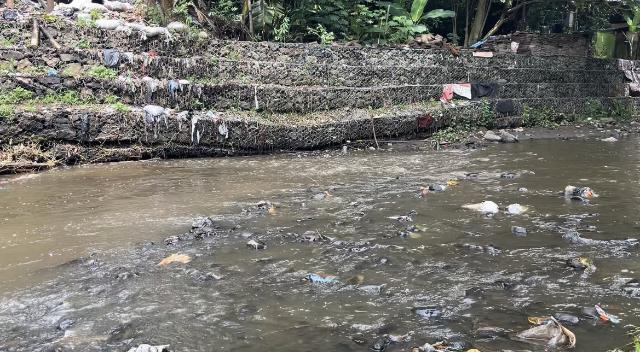Sampah Anorganik: (515, 314, 576, 351), (381, 342, 496, 352), (560, 185, 597, 203), (302, 271, 336, 287), (157, 251, 193, 266), (596, 307, 622, 324), (462, 203, 498, 212), (504, 202, 526, 215), (384, 216, 413, 223), (447, 181, 456, 186)
Sampah Organik: (574, 257, 595, 275), (344, 273, 368, 288), (265, 206, 277, 214), (322, 192, 332, 198), (421, 188, 428, 195)
